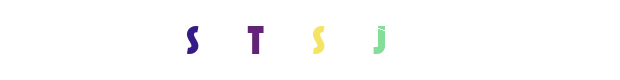J: (319, 0, 399, 80)
S: (186, 0, 266, 80), (278, 0, 358, 80)
T: (270, 0, 350, 80)
